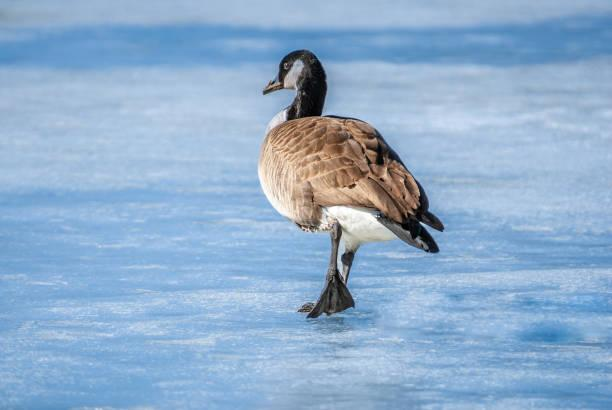Canadian-Goose: (253, 49, 448, 316)
